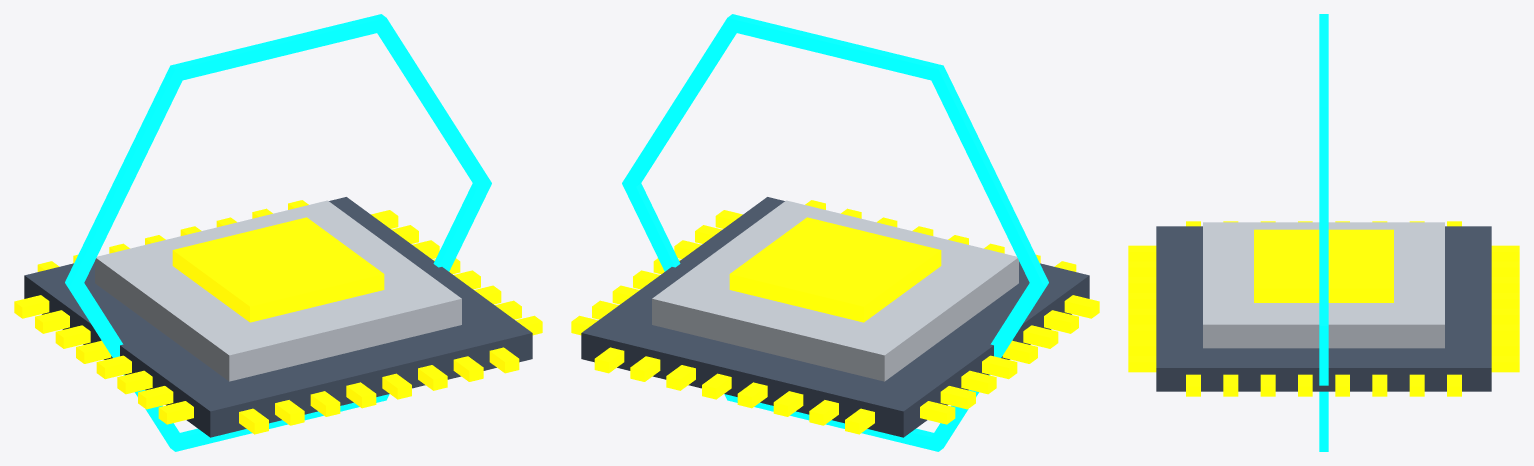
File: pillar_projects.glb
3 views of the same model, side by side, from view 1: azimuth 30°, elevation 25°; view 2: azimuth 150°, elevation 25°; view 3: azimuth 270°, elevation 25° (orthographic). The views are drawn at different scales.
Parts seen in each view (by area): view 1: HeatSpreader, PCBBase, HexRing, SiliconCore, PinZ_2_-0.95, PinZ_7_-0.95, PinZ_0_-0.95, PinZ_4_-0.95, PinZ_5_-0.95, PinZ_6_-0.95, PinZ_1_-0.95, PinZ_3_-0.95 (+8 smaller); view 2: HeatSpreader, PCBBase, HexRing, SiliconCore, PinZ_0_-0.95, PinZ_5_-0.95, PinZ_1_-0.95, PinZ_2_-0.95, PinZ_3_-0.95, PinZ_7_-0.95, PinZ_6_-0.95, PinZ_4_-0.95 (+8 smaller); view 3: PCBBase, HeatSpreader, SiliconCore, HexRing, PinX_7_-0.95, PinX_7_0.95, PinX_0_-0.95, PinX_0_0.95, PinX_4_-0.95, PinX_4_0.95, PinX_1_-0.95, PinX_1_0.95 (+8 smaller).
Part boxes in pixels (x1=…): HeatSpreader: x1=95, y1=200, x2=461, y2=381; PCBBase: x1=24, y1=197, x2=532, y2=437; HexRing: x1=65, y1=14, x2=491, y2=451; SiliconCore: x1=172, y1=217, x2=384, y2=322; PinZ_2_-0.95: x1=55, y1=325, x2=90, y2=348; PinZ_7_-0.95: x1=158, y1=401, x2=193, y2=424; PinZ_0_-0.95: x1=14, y1=295, x2=49, y2=318; PinZ_4_-0.95: x1=96, y1=355, x2=131, y2=379; PinZ_5_-0.95: x1=117, y1=370, x2=152, y2=394; PinZ_6_-0.95: x1=138, y1=386, x2=173, y2=409; PinZ_1_-0.95: x1=35, y1=310, x2=69, y2=333; PinZ_3_-0.95: x1=76, y1=340, x2=111, y2=363; HeatSpreader: x1=652, y1=200, x2=1018, y2=381; PCBBase: x1=581, y1=197, x2=1089, y2=437; HexRing: x1=622, y1=14, x2=1048, y2=451; SiliconCore: x1=729, y1=217, x2=941, y2=322; PinZ_0_-0.95: x1=920, y1=401, x2=955, y2=424; PinZ_5_-0.95: x1=1023, y1=325, x2=1058, y2=348; PinZ_1_-0.95: x1=940, y1=386, x2=975, y2=409; PinZ_2_-0.95: x1=961, y1=370, x2=996, y2=394; PinZ_3_-0.95: x1=982, y1=355, x2=1017, y2=379; PinZ_7_-0.95: x1=1064, y1=295, x2=1099, y2=318; PinZ_6_-0.95: x1=1044, y1=310, x2=1078, y2=333; PinZ_4_-0.95: x1=1002, y1=340, x2=1037, y2=363; PCBBase: x1=1156, y1=226, x2=1491, y2=391; HeatSpreader: x1=1203, y1=222, x2=1444, y2=348; SiliconCore: x1=1254, y1=229, x2=1393, y2=302; HexRing: x1=1319, y1=14, x2=1328, y2=451; PinX_7_-0.95: x1=1491, y1=356, x2=1519, y2=372; PinX_7_0.95: x1=1128, y1=356, x2=1156, y2=372; PinX_0_-0.95: x1=1491, y1=245, x2=1519, y2=261; PinX_0_0.95: x1=1128, y1=245, x2=1156, y2=261; PinX_4_-0.95: x1=1491, y1=308, x2=1519, y2=324; PinX_4_0.95: x1=1128, y1=308, x2=1156, y2=324; PinX_1_-0.95: x1=1491, y1=261, x2=1519, y2=276; PinX_1_0.95: x1=1128, y1=261, x2=1156, y2=276.
Size of the model in its own units: 2.36 by 2.04 by 2.1.
